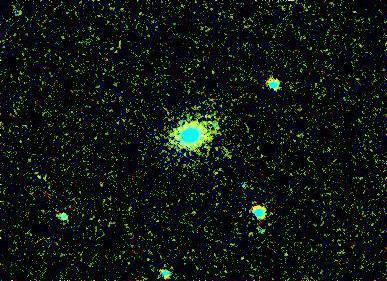star: (200, 106, 230, 136)
